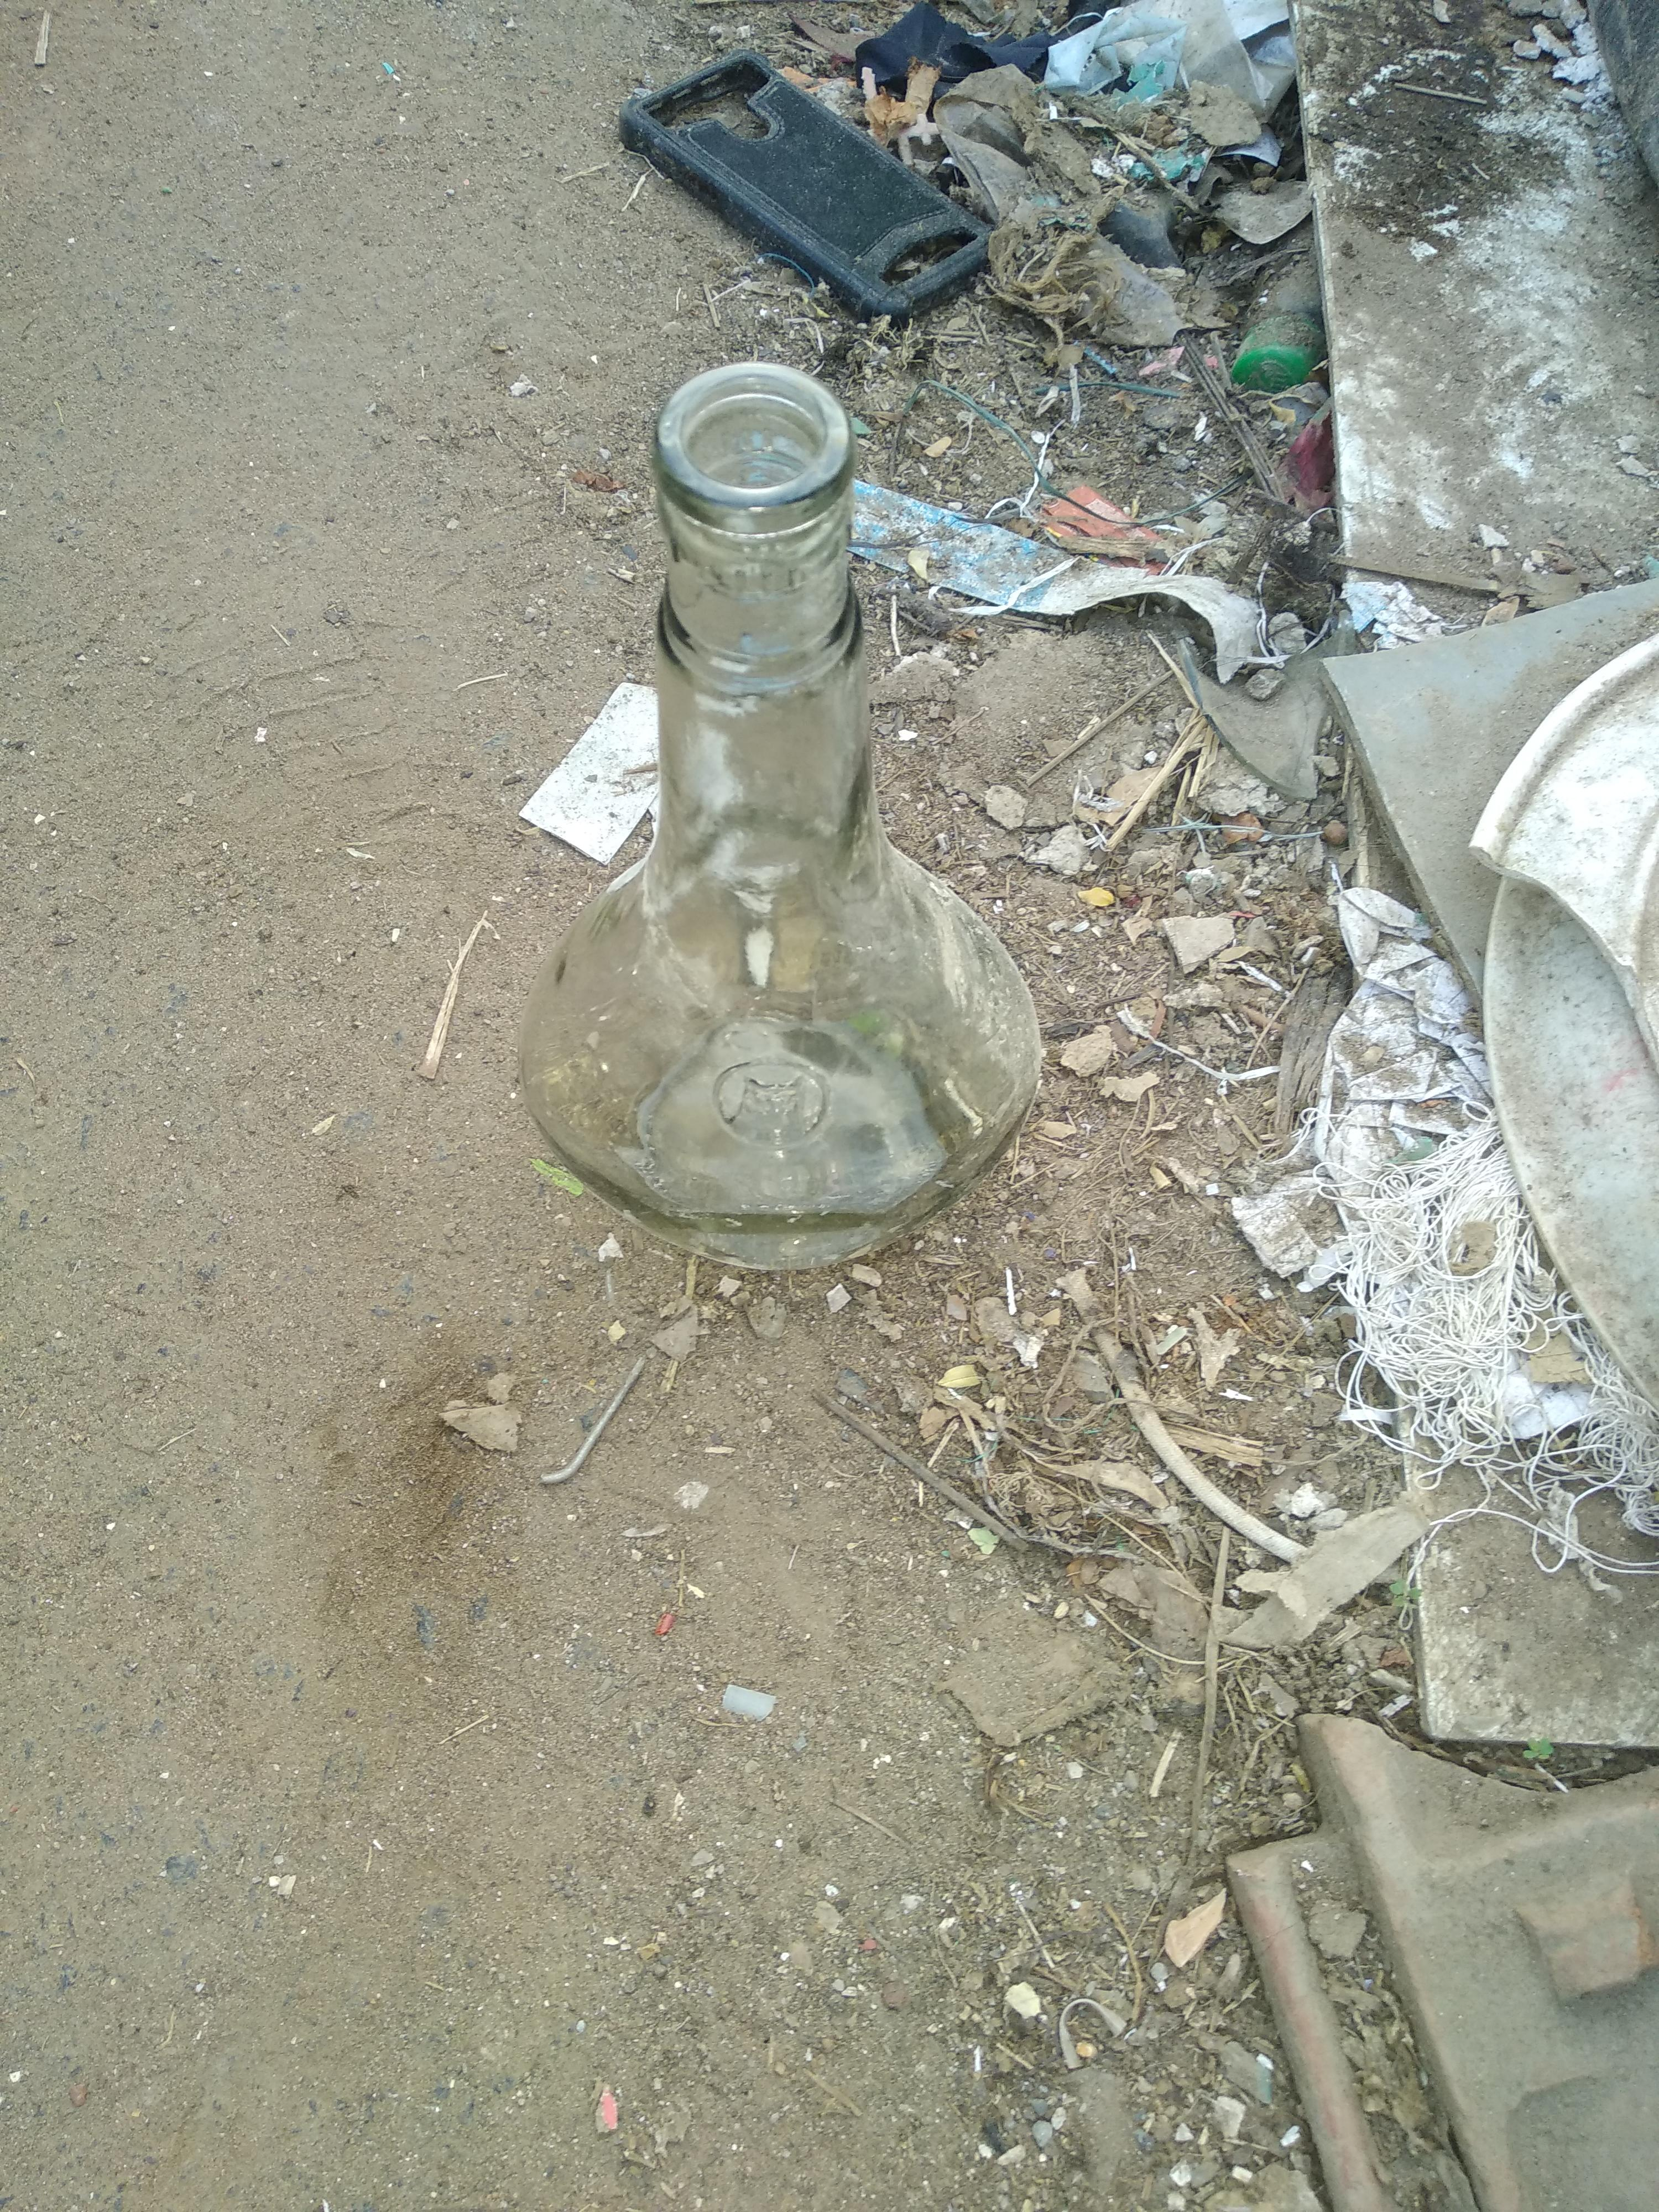trash: (488, 10, 1659, 1635)
